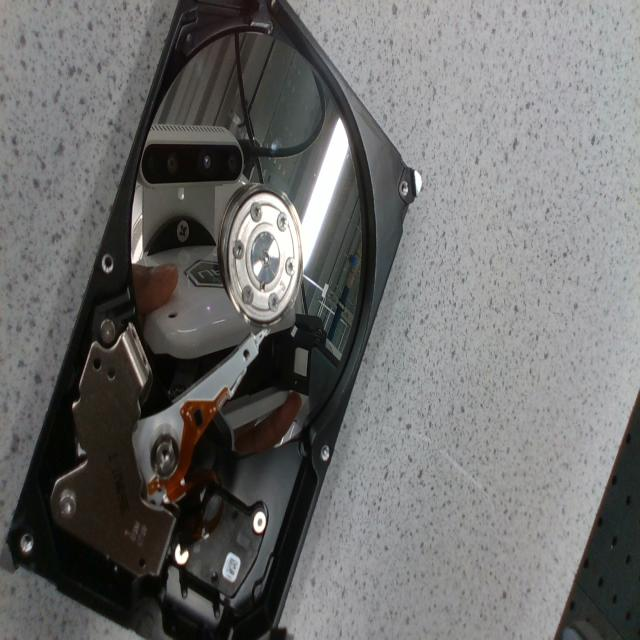actuator arm: (133, 335, 262, 507)
actuator axis: (151, 435, 178, 478)
case: (0, 0, 422, 639)
magnet: (51, 324, 173, 574)
pcb connector: (182, 492, 266, 596)
platter: (130, 31, 364, 455)
platter holder: (218, 184, 303, 327)
screw: (60, 490, 76, 519), (252, 509, 266, 534), (174, 543, 188, 565), (233, 240, 244, 259), (242, 285, 253, 303), (250, 203, 261, 220), (278, 212, 287, 230), (269, 293, 278, 308), (286, 260, 294, 276)
